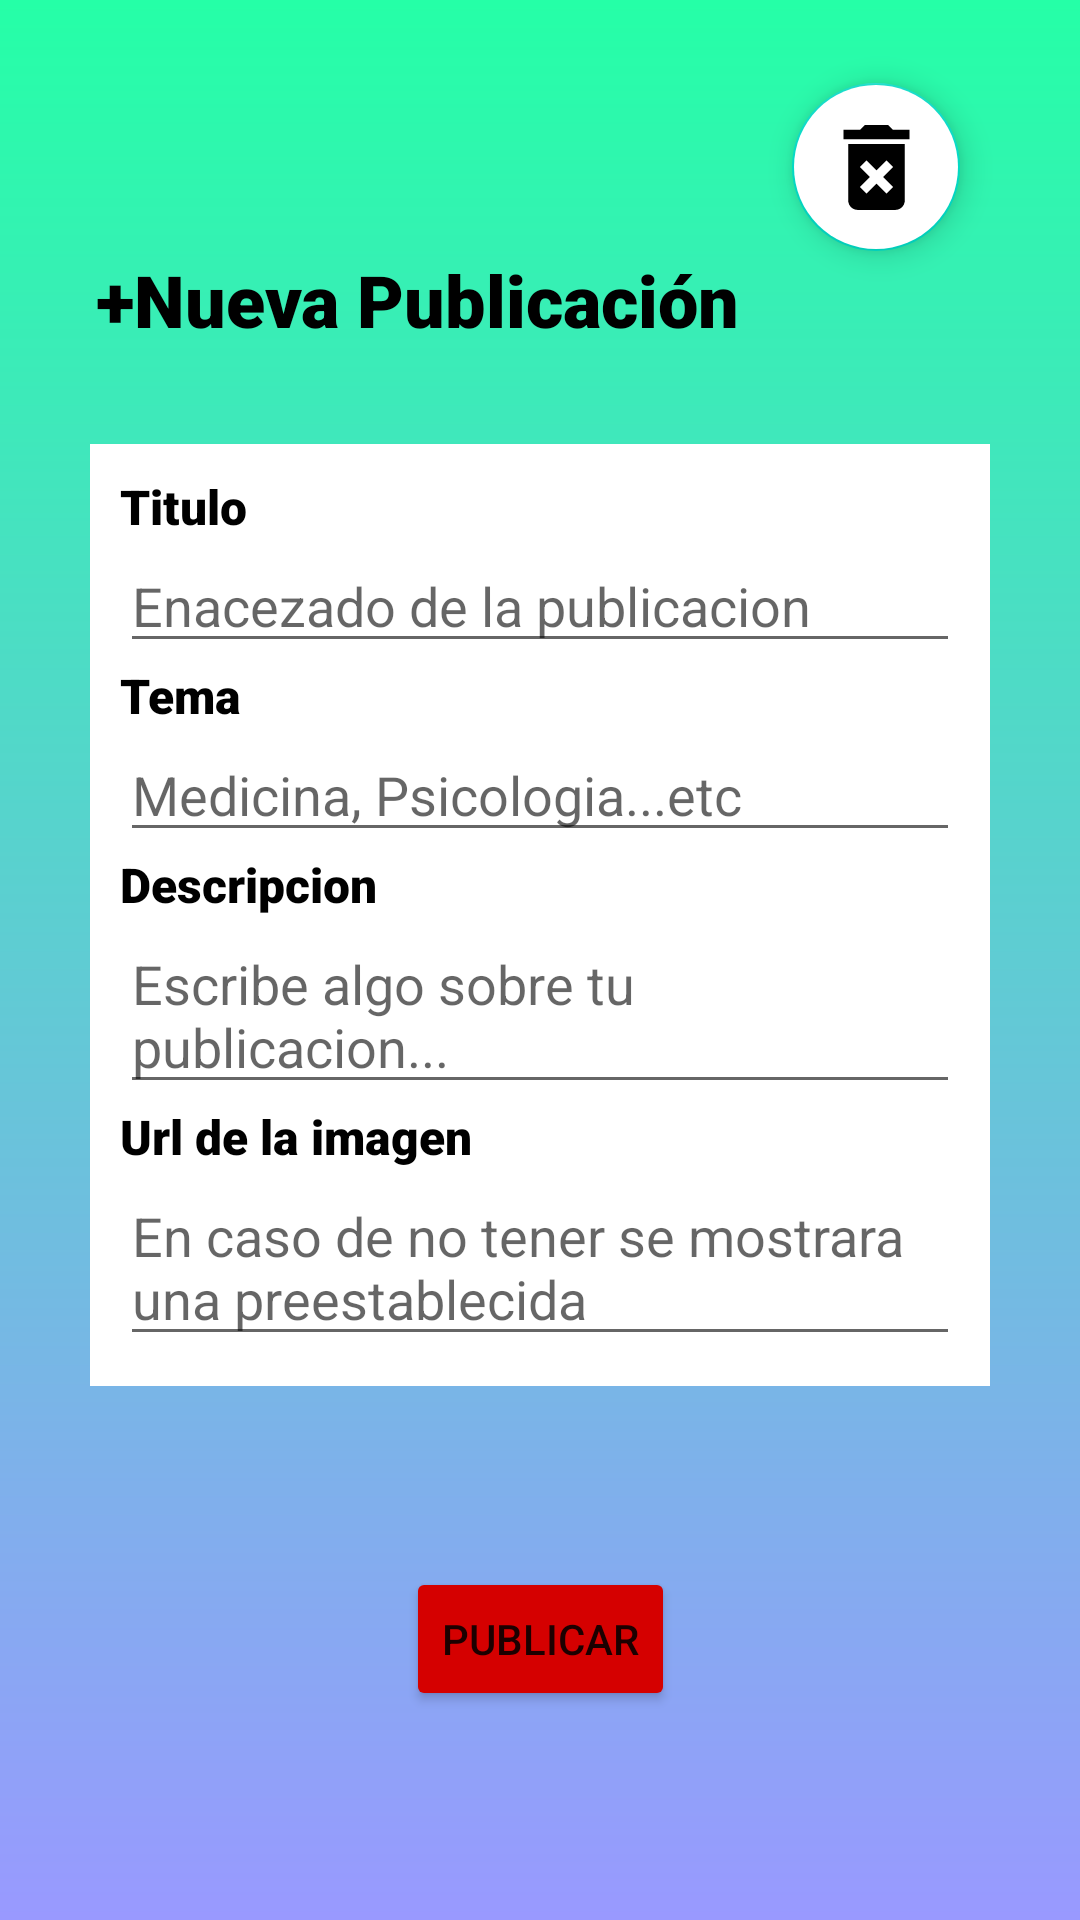

Named icons in this screenshot (1080*1920) and their centers, (x=x, y=y):
delete: (x=876, y=167)
